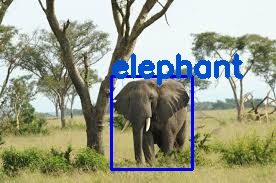elephant: (111, 75, 191, 169)
